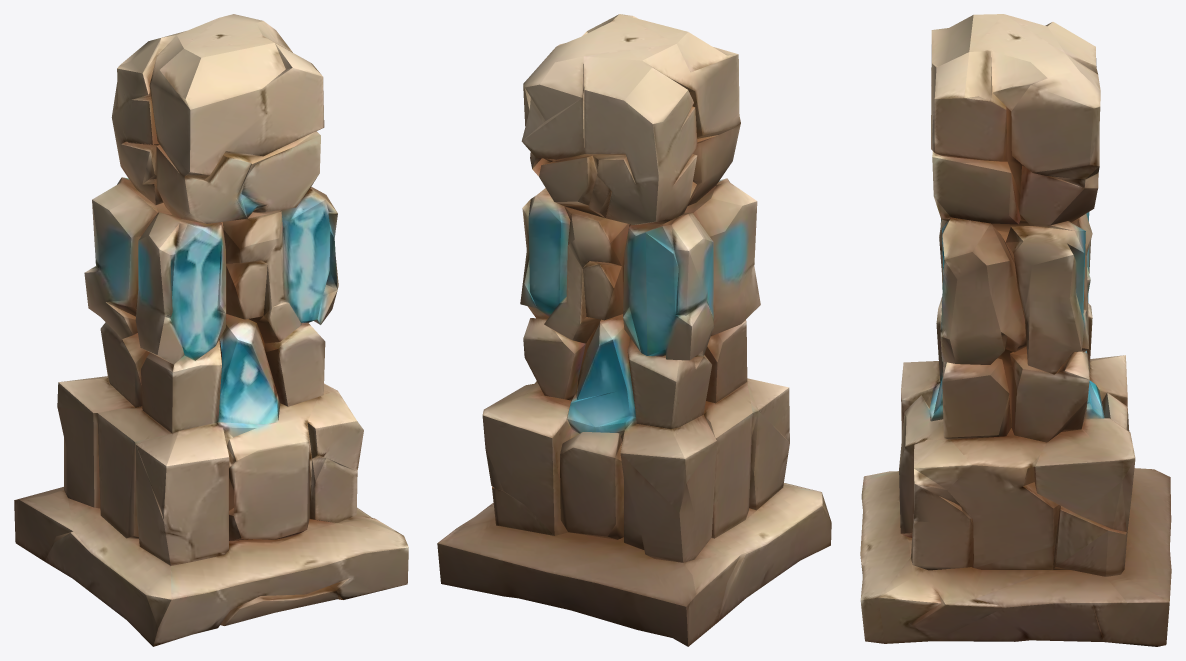
The model's file is m2SequenceBeacon.glb.
The picture shows the model from 3 angles, left to right: view 1: azimuth 30°, elevation 25°; view 2: azimuth 150°, elevation 25°; view 3: azimuth 270°, elevation 25°; orthographic projection. The views are drawn at different scales.
Visible parts, largest first — view 1: model; view 2: model; view 3: model.
Boxes of the visible parts, x1,y1,x2,y2 form: model: (14,14,408,646); model: (437,14,831,646); model: (860,14,1171,646).
Bounding box in the file's own units: 0.9622 × 1.9 × 0.9718.
Materials: 1 (1 with a texture image).
